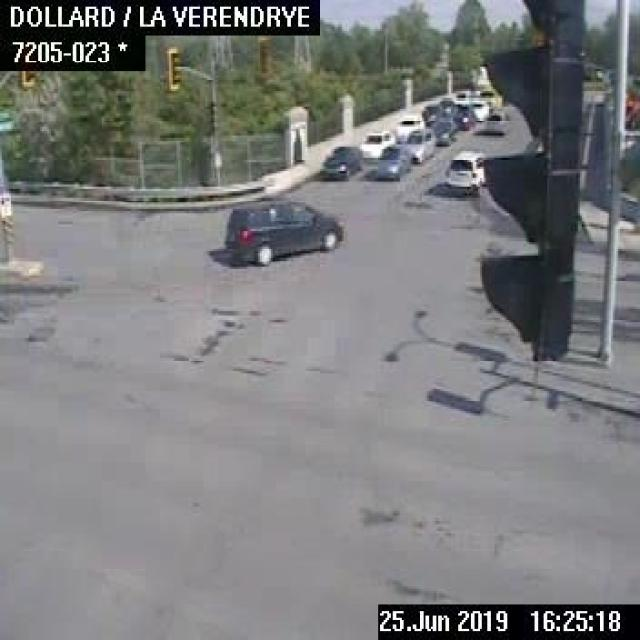vehicle: (220, 196, 343, 265), (316, 141, 362, 182), (444, 149, 486, 193), (370, 142, 413, 180), (402, 126, 434, 164), (358, 130, 393, 156), (391, 112, 423, 140), (430, 116, 457, 146), (452, 106, 476, 130), (467, 96, 488, 120), (418, 102, 440, 124), (437, 96, 453, 115)
